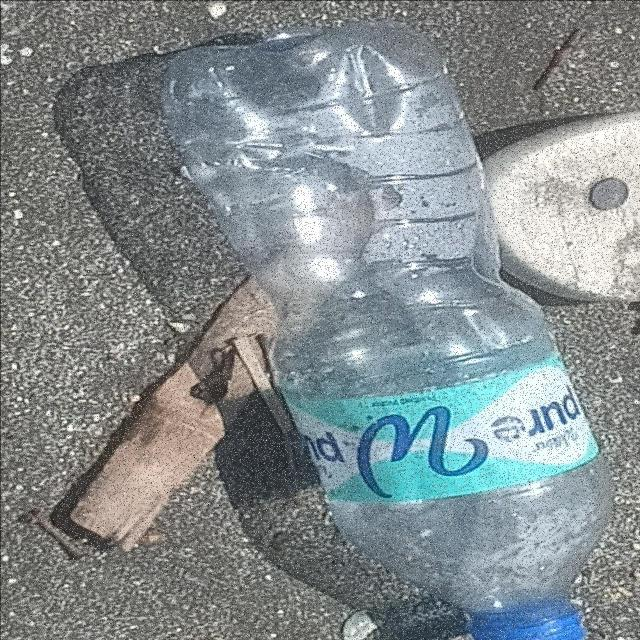plastic_waste: (155, 19, 619, 640)
rubber_waste: (484, 109, 640, 301)
